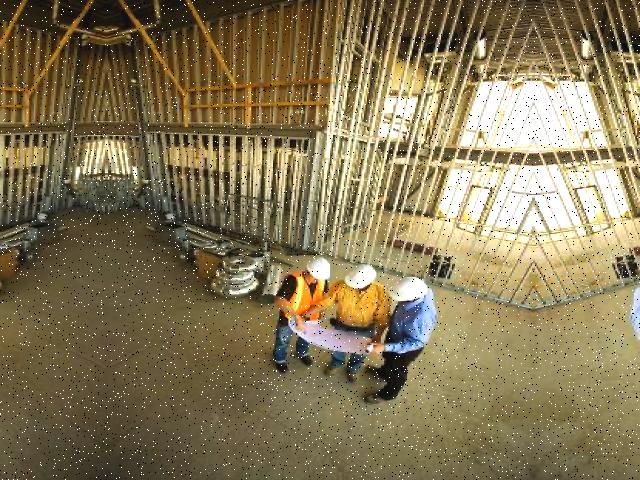Helmet: (388, 272, 435, 304), (302, 250, 338, 282), (343, 261, 382, 289)
